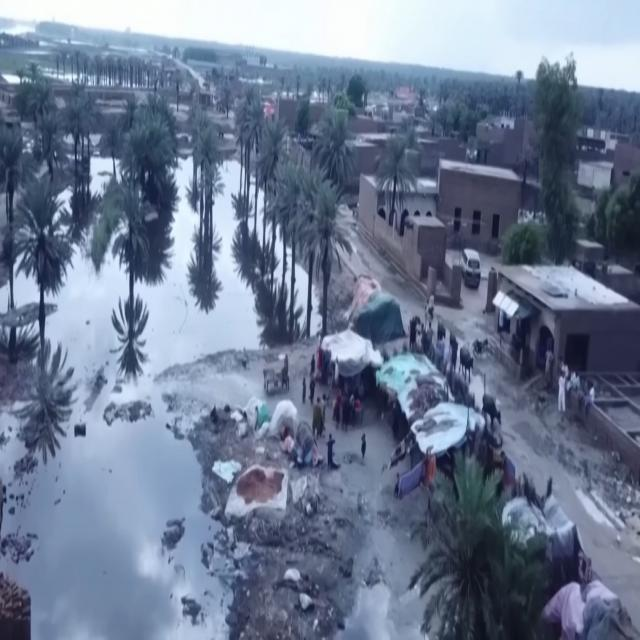flood: (0, 156, 294, 640)
house: (500, 264, 640, 372), (438, 156, 523, 282)
